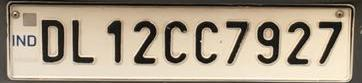1: (103, 18, 129, 67)
2: (131, 19, 161, 67), (286, 21, 312, 66)
7: (223, 19, 251, 68), (316, 18, 342, 69)
9: (254, 20, 284, 68)
C: (194, 19, 221, 69), (163, 19, 191, 66)
D: (38, 14, 68, 66)
L: (69, 16, 95, 66)
